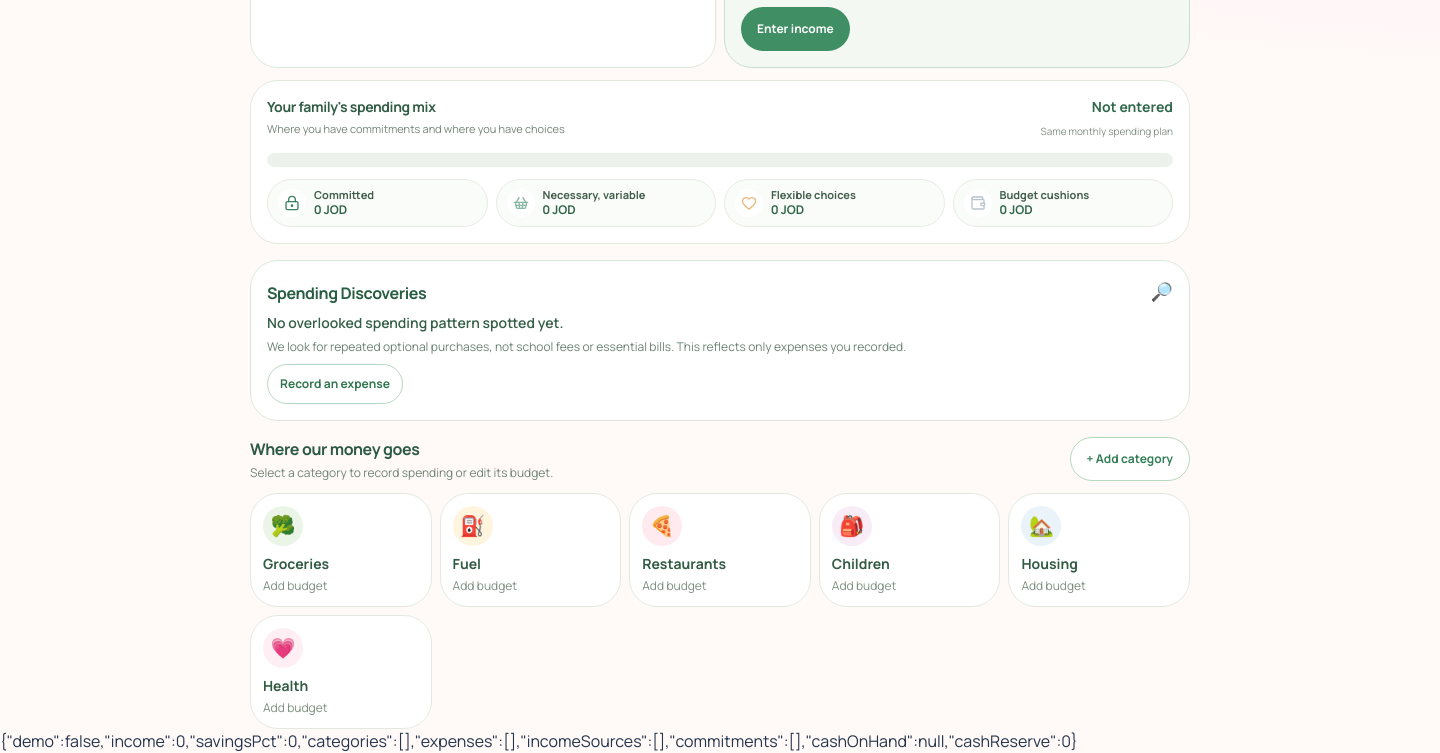
direct category editing in the pictured Family Money Map › adds a custom school fees category as an independent illustrated tile and allows edits
(page scrolled)
Click the button "+ Add category" at (1130, 459), box [1070,437,1190,481]
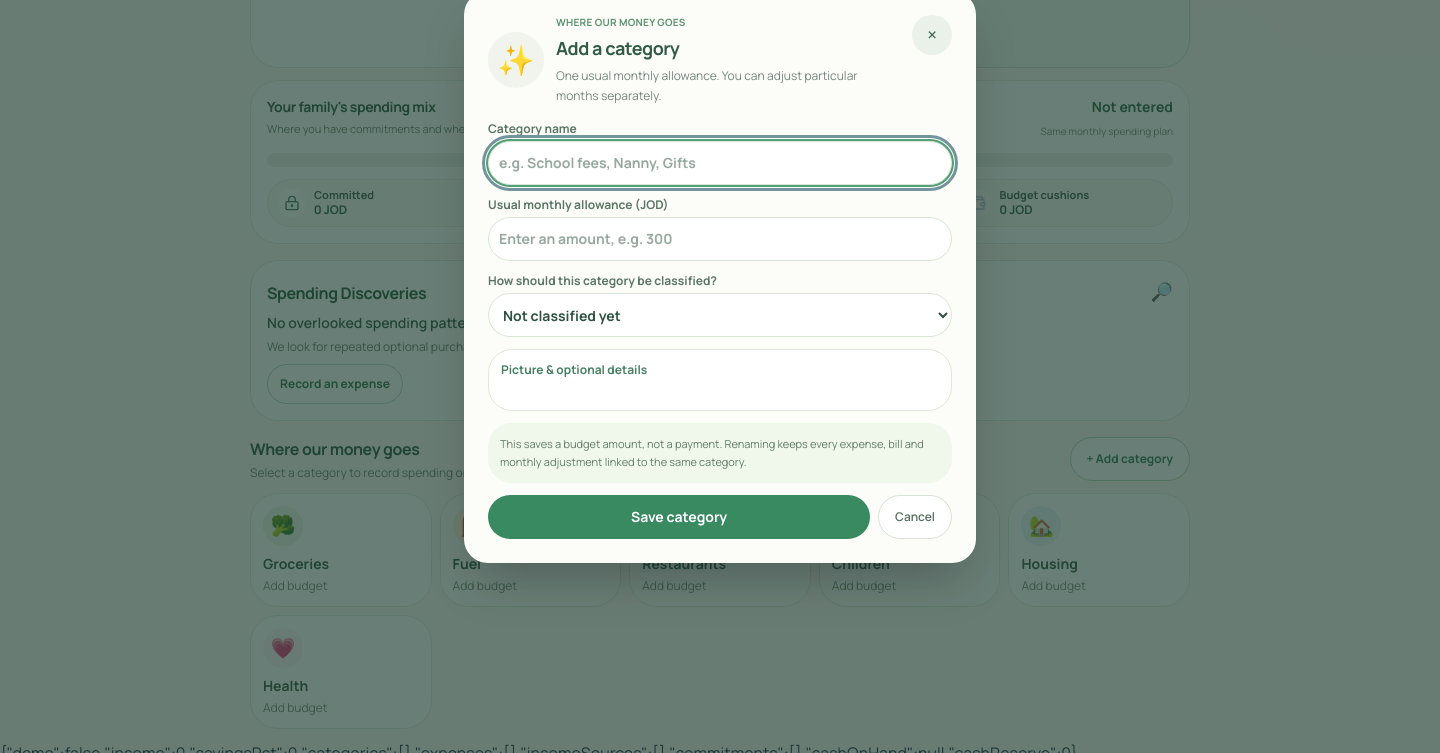
Type "School Fees" into the field labelled "Category name" at (720, 163), box [488,141,952,185]
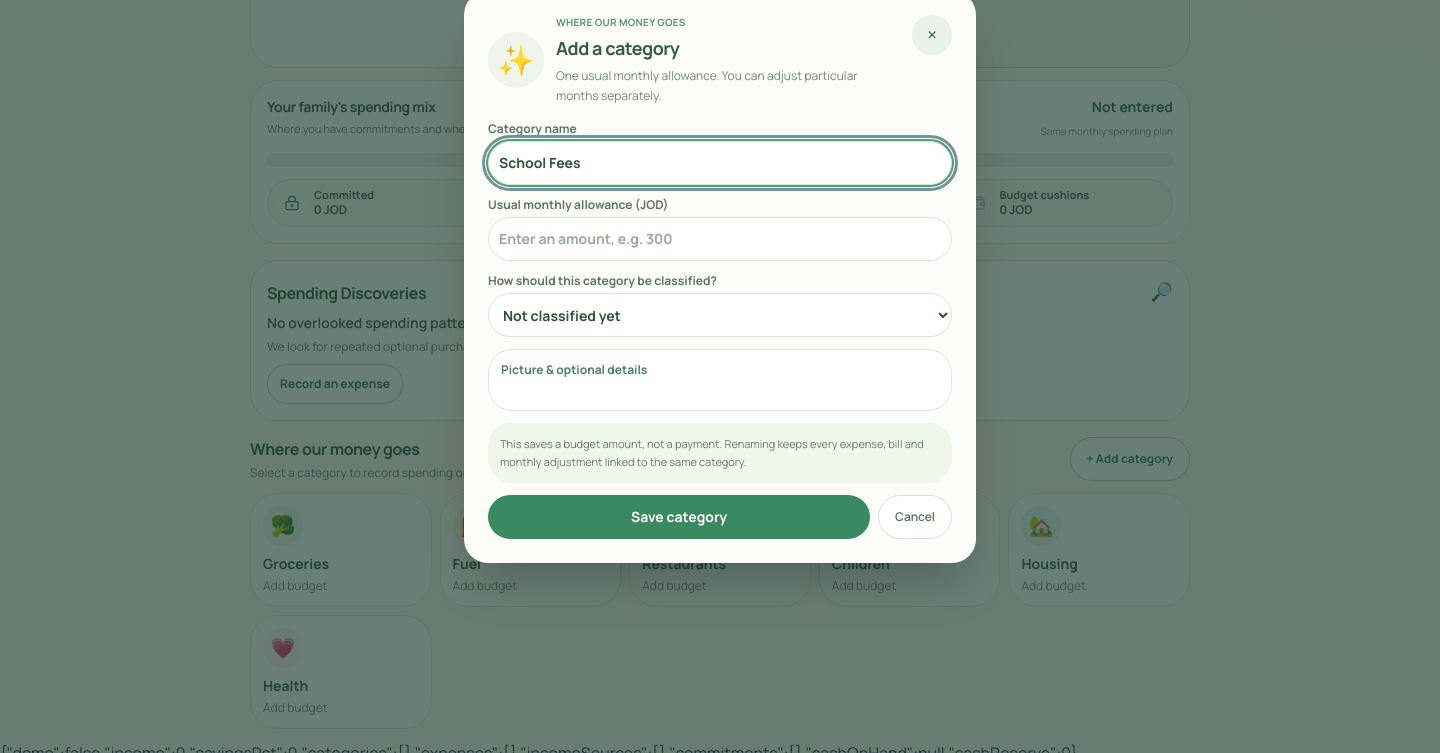
Type "220" into the number field labelled "Usual monthly allowance (JOD)" at (720, 239), box [488,217,952,261]
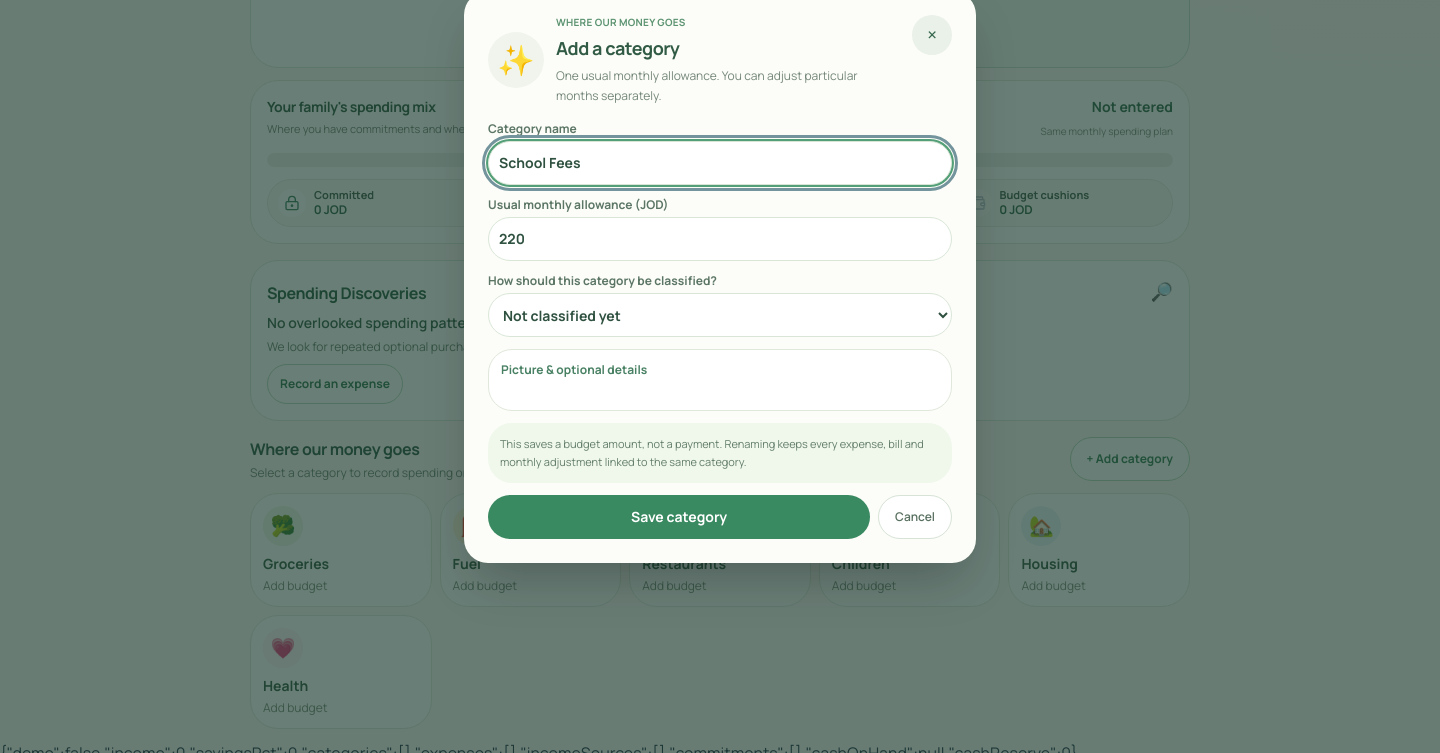
Click the button "Save category" at (679, 517), box [488,495,870,539]
(page scrolled)
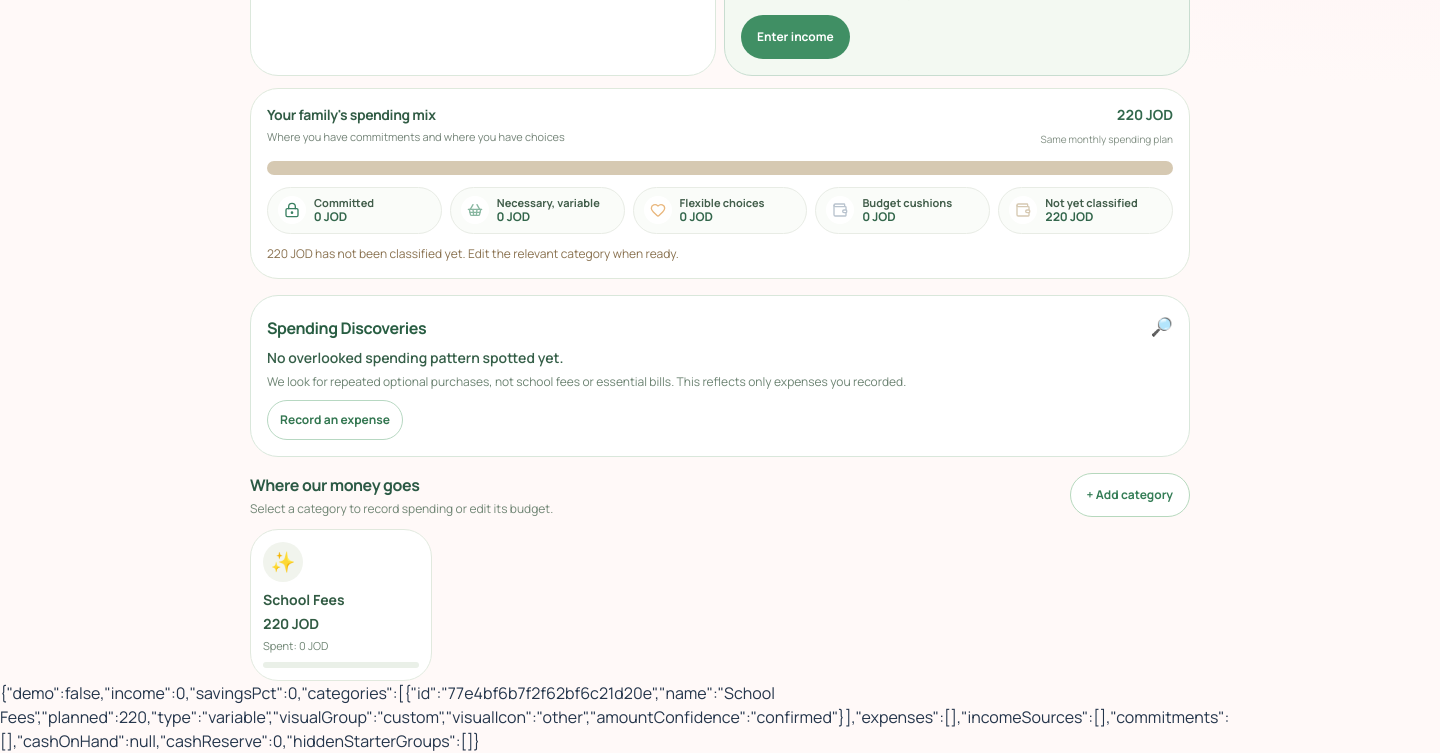
Click the button "✨ School Fees 220 JOD Spent: 0 JOD" at (341, 605), box [250,529,432,681]
(page scrolled)
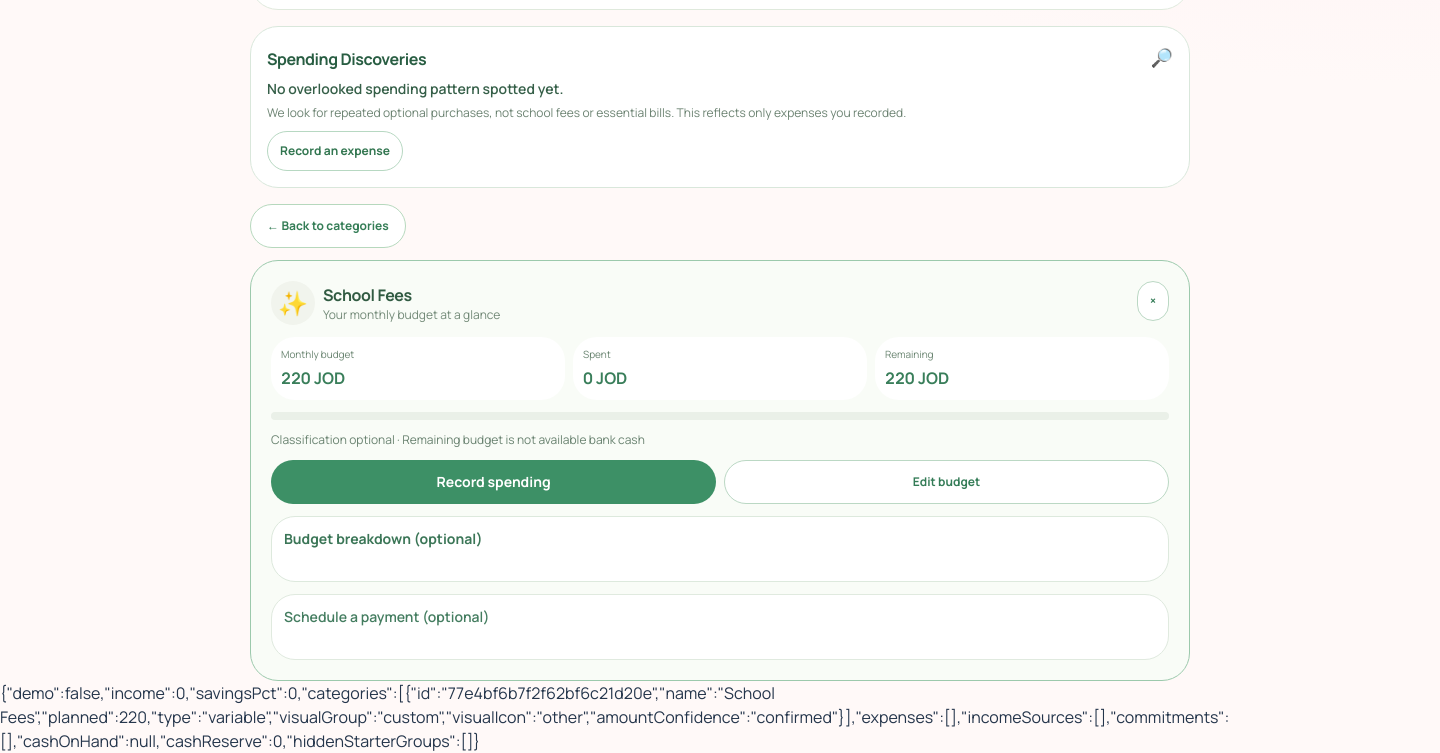
Click the button "Edit budget" at (946, 482), box [724,460,1169,504]
(page scrolled)
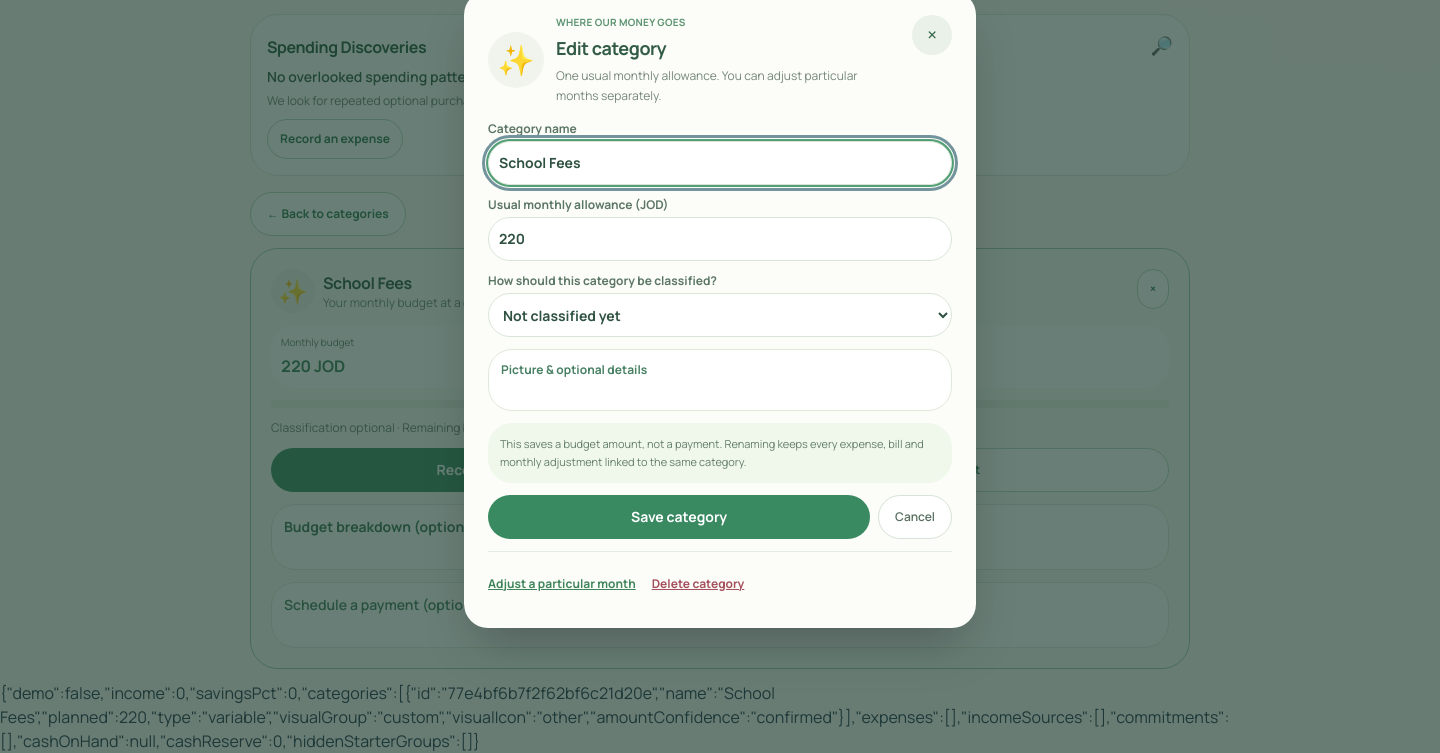
Now the field labelled "Category name" holds "School Fees", box [488,141,952,185]
